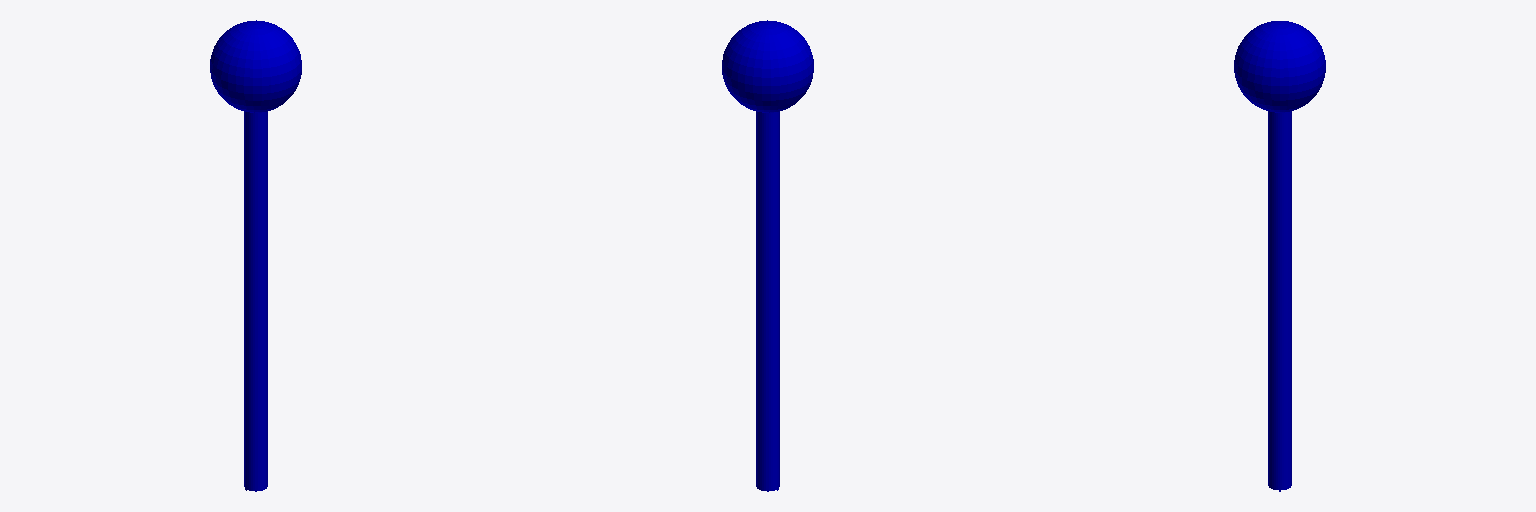
The robot description file, URDF, robot "single_legged_hopper":
<?xml version="1.0"?>
<robot name = "single_legged_hopper">
    <link name = "xtrans"/>
    <link name = "ztrans"/>
    <material name="blue">
        <color rgba="0 0 0.8 1"/>
    </material>
    <joint name="xslide" type="prismatic">
        <parent link="xtrans"/>
        <child link="ztrans"/>
        <origin rpy="0 0 0" xyz="0 0 0"/>
        <axis xyz="1 0 0"/>
    </joint>
    <joint name="zslide" type="prismatic">
        <parent link="ztrans"/>
        <child link="base"/>
        <origin rpy="0 0 0" xyz="0 0 0"/>
        <axis xyz="0 0 1"/>
    </joint>
    <!-- add link for the base -->
    <link name="base">
        <inertial>
            <origin xyz="0 0 0"/>
            <mass value="10"/>
            <inertia ixx="0.0001" ixy="0" ixz="0" iyy="0.0001" iyz="0.0" izz="0.0001"/>
        </inertial>
        <visual>
            <origin xyz="0 0 0" rpy="0.0 0.0 0.0"/>
            <geometry>
                <sphere radius="0.2"/>
            </geometry> 
            <material name="blue"/>
        </visual>
    </link>
    <!--does this lock the hopper in x and z axis?-->
    
    <!-- join between base and leg 1 -->
    
    
    <!-- add link for leg 1 -->
    <link name="leg_1">
        <visual>
            <origin xyz="0 0 -0.5" rpy="0 0 0"/>
            <geometry>
                <cylinder radius="0.05" length = "1"/>
            </geometry>
            <material name="blue"/>
        </visual>
        <inertial>
            <origin xyz="0 0 -0.5" rpy="0 0 0"/>
            <mass value="1"/>
            <inertia ixx="0.083" ixy="0.0" ixz="0.0" iyy="0.083" iyz="0.0" izz="0.00001"/>
        </inertial>
    </link>
    <joint name="base_leg_1" type="revolute">
        <parent link="base"/>
        <child link="leg_1"/>
        <axis xyz="0 1 0"/>
      	<origin xyz = "0 0 0"/>
        <limit lower="-1.57" upper="1.57"/>
    </joint>
    <!-- join between leg 1 and leg 2 -->
    
    
    <!-- add link for leg 2 -->
    <link name="leg_2">
        <visual>
            <origin xyz="0 0 -0.5" rpy="0 0 0"/>
            <geometry>
                <cylinder radius="0.05" length = "1"/>
            </geometry>
            <material name="blue"/>
        </visual>
        <inertial>
            <origin xyz="0 0 -0.5" rpy="0 0 0"/>
            <mass value="1"/>
            <inertia ixx="0.083" ixy="0.0" ixz="0.0" iyy="0.083" iyz="0.0" izz="0.00001"/>
        </inertial>
    </link>
    <joint name="leg_1_leg_2" type="revolute">
        <parent link="leg_1"/>
        <child link="leg_2"/>
        <axis xyz="0 1 0"/>
      	<origin xyz = "0 0 -1"/>
        <limit lower="-1.04" upper="2.09"/>
    </joint>
    <!-- joint between leg 2 and foot -->
    
    <link name="foot">
        <inertial>
            <origin xyz="0 0 0" rpy="0.0 0.0 0.0"/>
            <mass value="0.33"/>
            <inertia ixx="0.0001" ixy="0.0" ixz="0.0" iyy="0.003" iyz="0.0" izz="0.003"/>
        </inertial>
        <visual>
            <origin xyz="0 0 0" rpy="0.0 0.0 0.0"/>
            <geometry>
                <box size="0.1 0.01 0.01"/>
            </geometry>
            <material name="blue"/>
        </visual>
        <!-- collision point 1 -->
        <collision>
            <origin xyz="0.1665 0 0" rpy="0.0 0.0 0.0"/>
            <geometry>
                <sphere radius="0"/>
            </geometry>
        </collision> -->
        <!-- collision point 2 -->
        <collision>
        <origin xyz="-0.1665 0 0"/>
            <geometry>
                <sphere radius="0"/>
            </geometry>
        </collision>
        <!-- single collision point -->
        <!-- <collision>
            <origin xyz="0 0 0" rpy="0.0 0.0 0.0"/>
            <geometry>
                <sphere radius="0"/>
            </geometry>
        </collision> -->
    </link>
    <joint name="leg_2_foot" type="revolute">
        <parent link="leg_2"/>
        <child link="foot"/>
        <axis xyz="0 1 0"/>
      	<origin xyz = "0 0 -1"/>
        <limit lower="-1.04" upper="1.04"/>
    </joint>
    <!-- fix the joints together -->
    <!-- add transmission between base and leg 1 -->
    <transmission name = "joint1_transmission">
        <type>transmission_interface/SimpleTransmission</type>
        <joint name="base_leg_1"/>
        <actuator name="joint1_actuator">
            <mechanicalReduction>1</mechanicalReduction>
        </actuator>
    </transmission>
    <transmission name = "joint2_transmission">
        <type>transmission_interface/SimpleTransmission</type>
        <joint name="leg_1_leg_2"/>
        <actuator name="joint2_actuator">
            <mechanicalReduction>1</mechanicalReduction>
        </actuator>
    </transmission>
    <transmission name = "joint3_transmission">
        <type>transmission_interface/SimpleTransmission</type>
        <joint name="leg_2_foot"/>
        <actuator name="joint3_actuator">
            <mechanicalReduction>1</mechanicalReduction>
        </actuator>
    </transmission>
</robot>

--- What the picture shows (computed from the rendered views, not written in the file) ---
3 views of the same robot in one strip: view 1: azimuth 30°, elevation 25°; view 2: azimuth 150°, elevation 25°; view 3: azimuth 270°, elevation 25° (orthographic).
Robot: single_legged_hopper — 6 links, 5 joints (3 revolute, 2 prismatic); root link xtrans; default pose: every joint at zero.
Visible links, largest first — view 1: base, leg_2, leg_1; view 2: base, leg_2, leg_1; view 3: base, leg_2, leg_1.
Link boxes in pixels (x1,y1,x2,y2): base: [210, 20, 301, 112]; leg_2: [244, 277, 267, 491]; leg_1: [244, 111, 267, 281]; base: [722, 20, 813, 112]; leg_2: [756, 277, 779, 491]; leg_1: [756, 111, 779, 281]; base: [1234, 21, 1325, 112]; leg_2: [1268, 276, 1291, 489]; leg_1: [1268, 111, 1291, 280].
Size in the robot's own frame: 0.4 by 0.4 by 2.21 metres.
Geometry: primitives only (box / cylinder / sphere), no mesh files.
